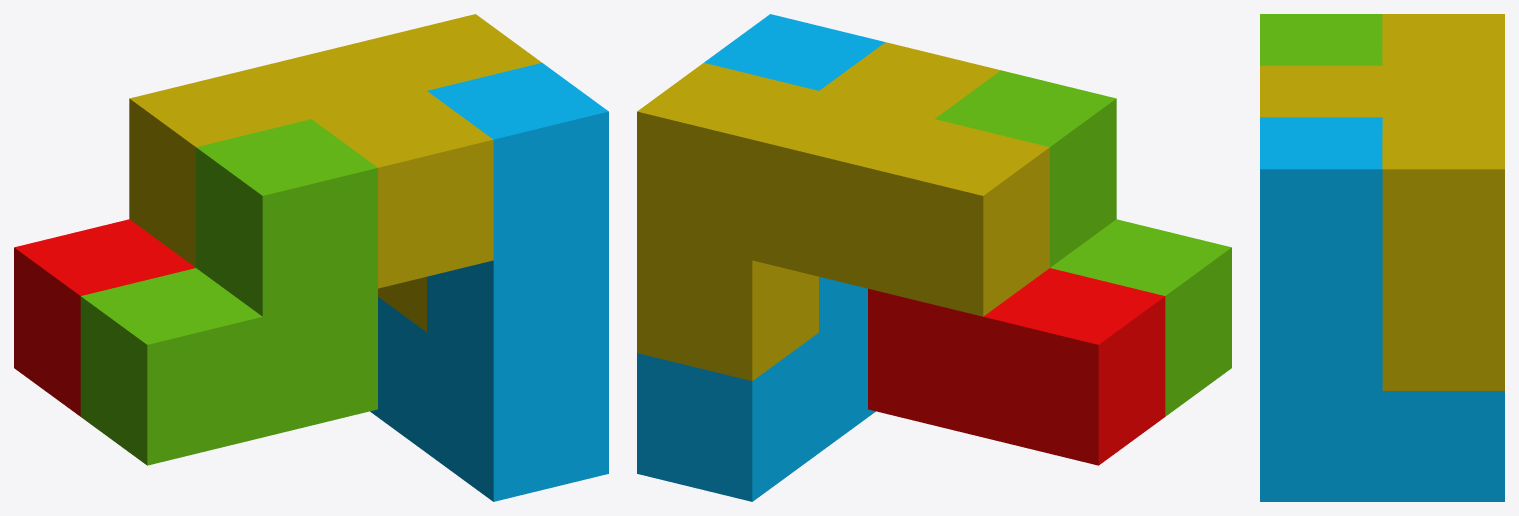
3 views of the same model, side by side, from view 1: azimuth 30°, elevation 25°; view 2: azimuth 150°, elevation 25°; view 3: azimuth 270°, elevation 25° (orthographic). The views are drawn at different scales.
Parts seen in each view (by area): view 1: mergedBlocks(Clone); view 2: mergedBlocks(Clone); view 3: mergedBlocks(Clone).
Boxes of the visible parts, box(x1,y1,x2,y2) form: mergedBlocks(Clone): box(14, 14, 608, 501); mergedBlocks(Clone): box(637, 14, 1231, 501); mergedBlocks(Clone): box(1260, 14, 1504, 501).
Bounding box in the file's own units: 4 × 3 × 2.
4 materials, 4 textured.
